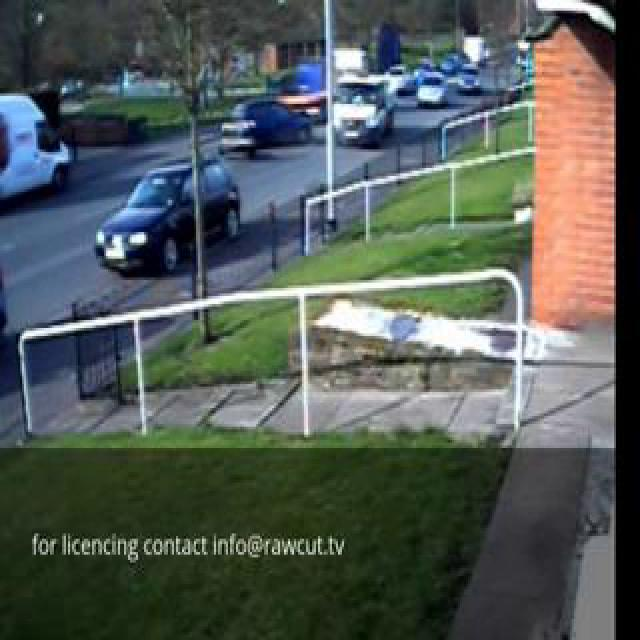road accidents: (193, 0, 435, 415)
